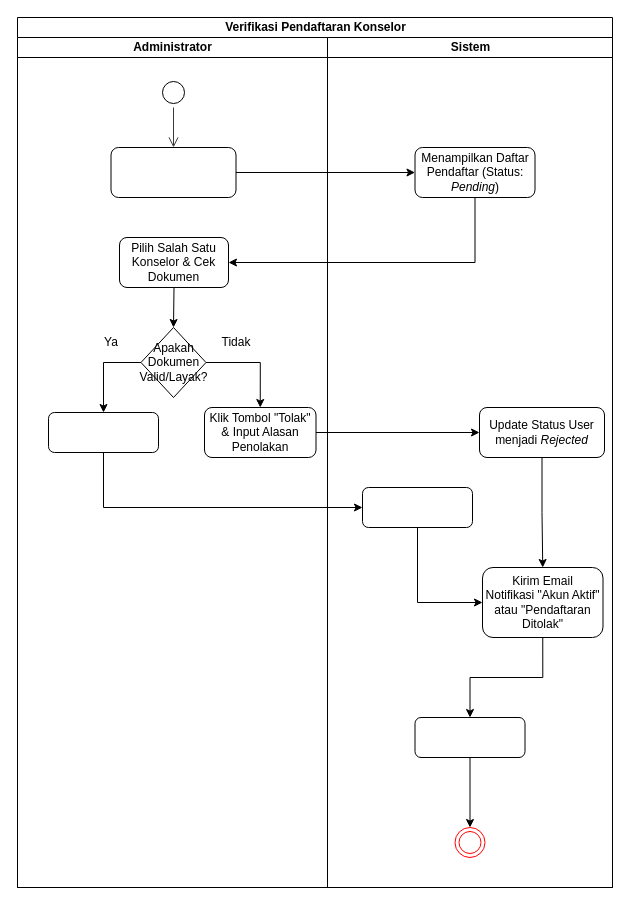
The diagram is 630 pixels wide and 905 high, and some of its shapes have lost their labels. Each missing label, with the centre of its shape:
Klik Tombol "Terima (Approve)": (103,432)
Login & Buka Menu "Verifikasi Konselor": (173,172)
Tampilkan Profil Lengkap & Slot Jadwal: (469,737)
Update Status User menjadi Active: (417,507)
